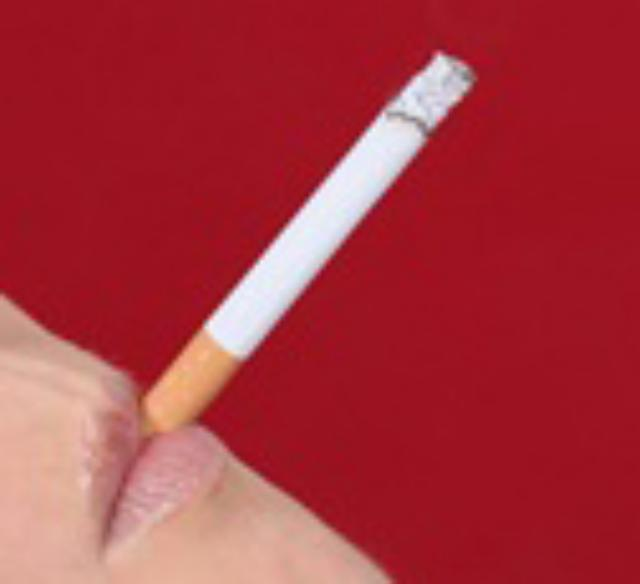Cigarette: (116, 52, 478, 482)
